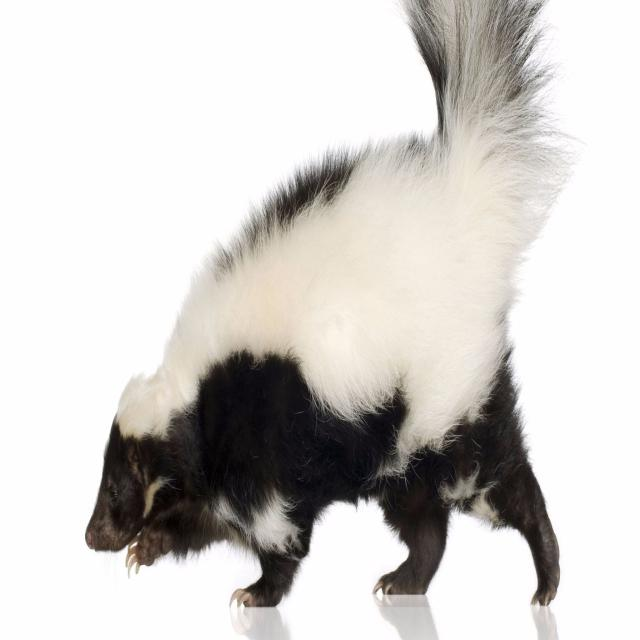Skunk: (92, 0, 579, 623)
